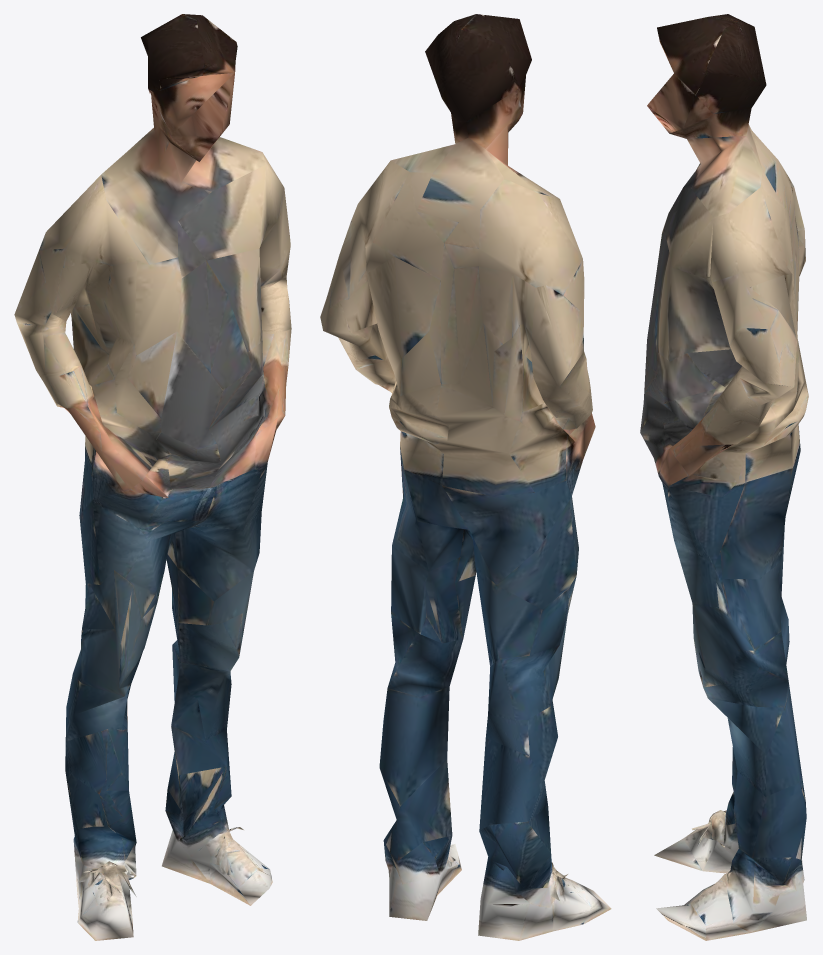
The model's file is spectator.glb.
The picture shows the model from 3 angles, left to right: view 1: azimuth 30°, elevation 25°; view 2: azimuth 150°, elevation 25°; view 3: azimuth 270°, elevation 25°; orthographic projection.
Size of the model in its own units: 0.5818 by 1.9 by 0.327.
1 material, 1 textured.
